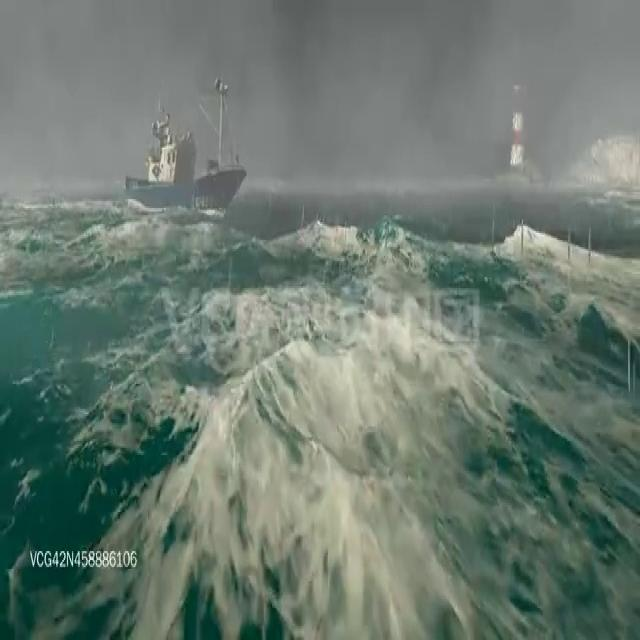fishing boat: (122, 82, 241, 212)
